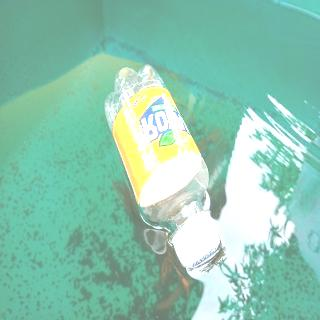bottle: (102, 58, 222, 272)
